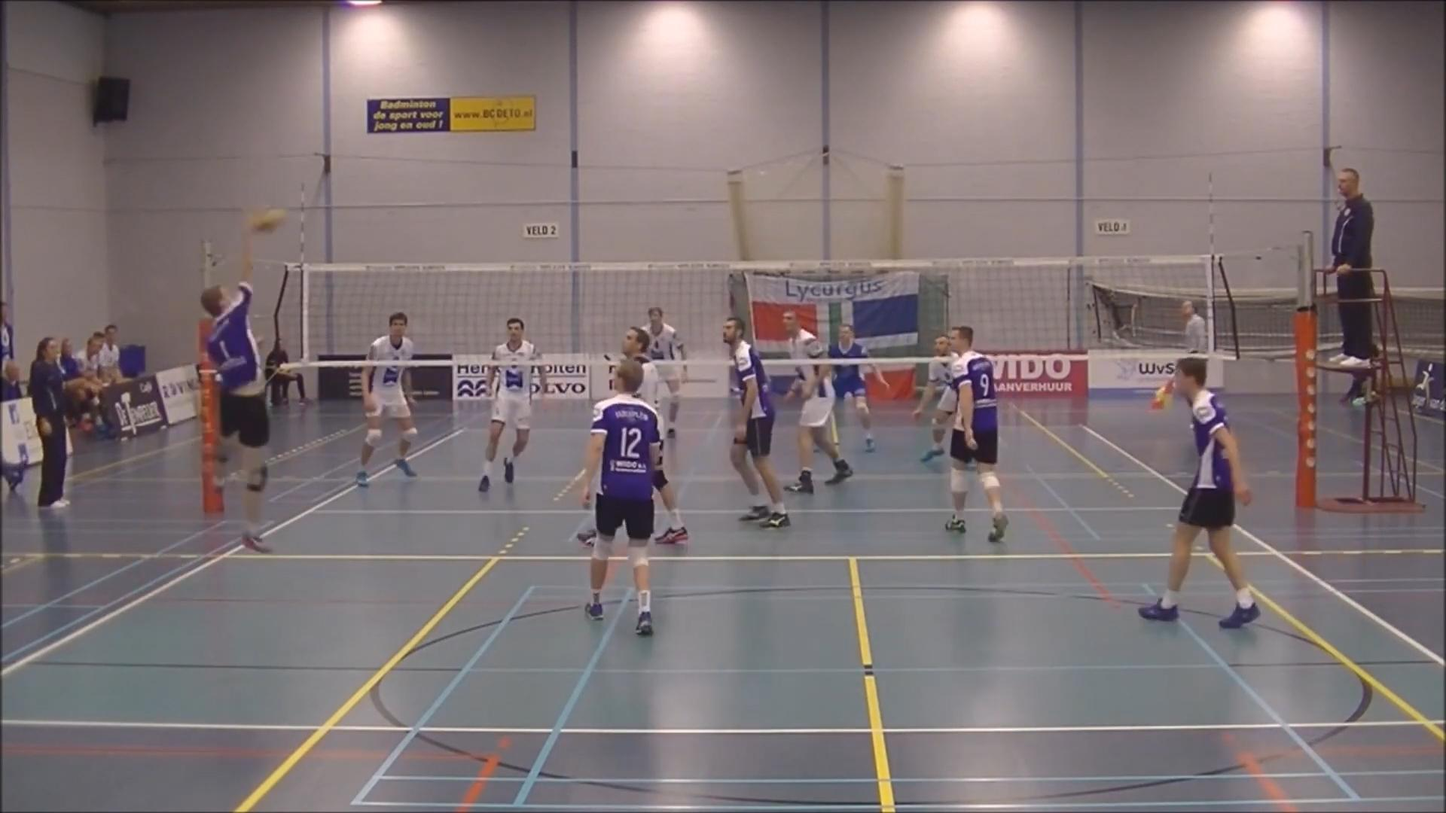battuta: (152, 227, 291, 558)
